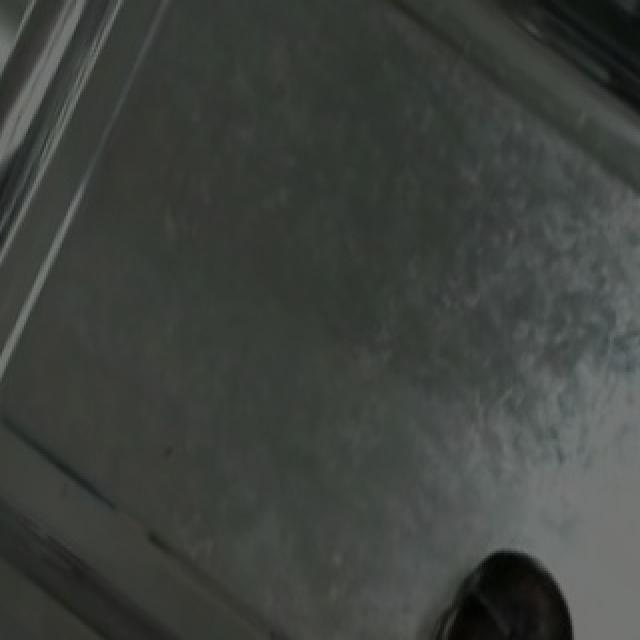Fruit: (446, 536, 588, 640)
